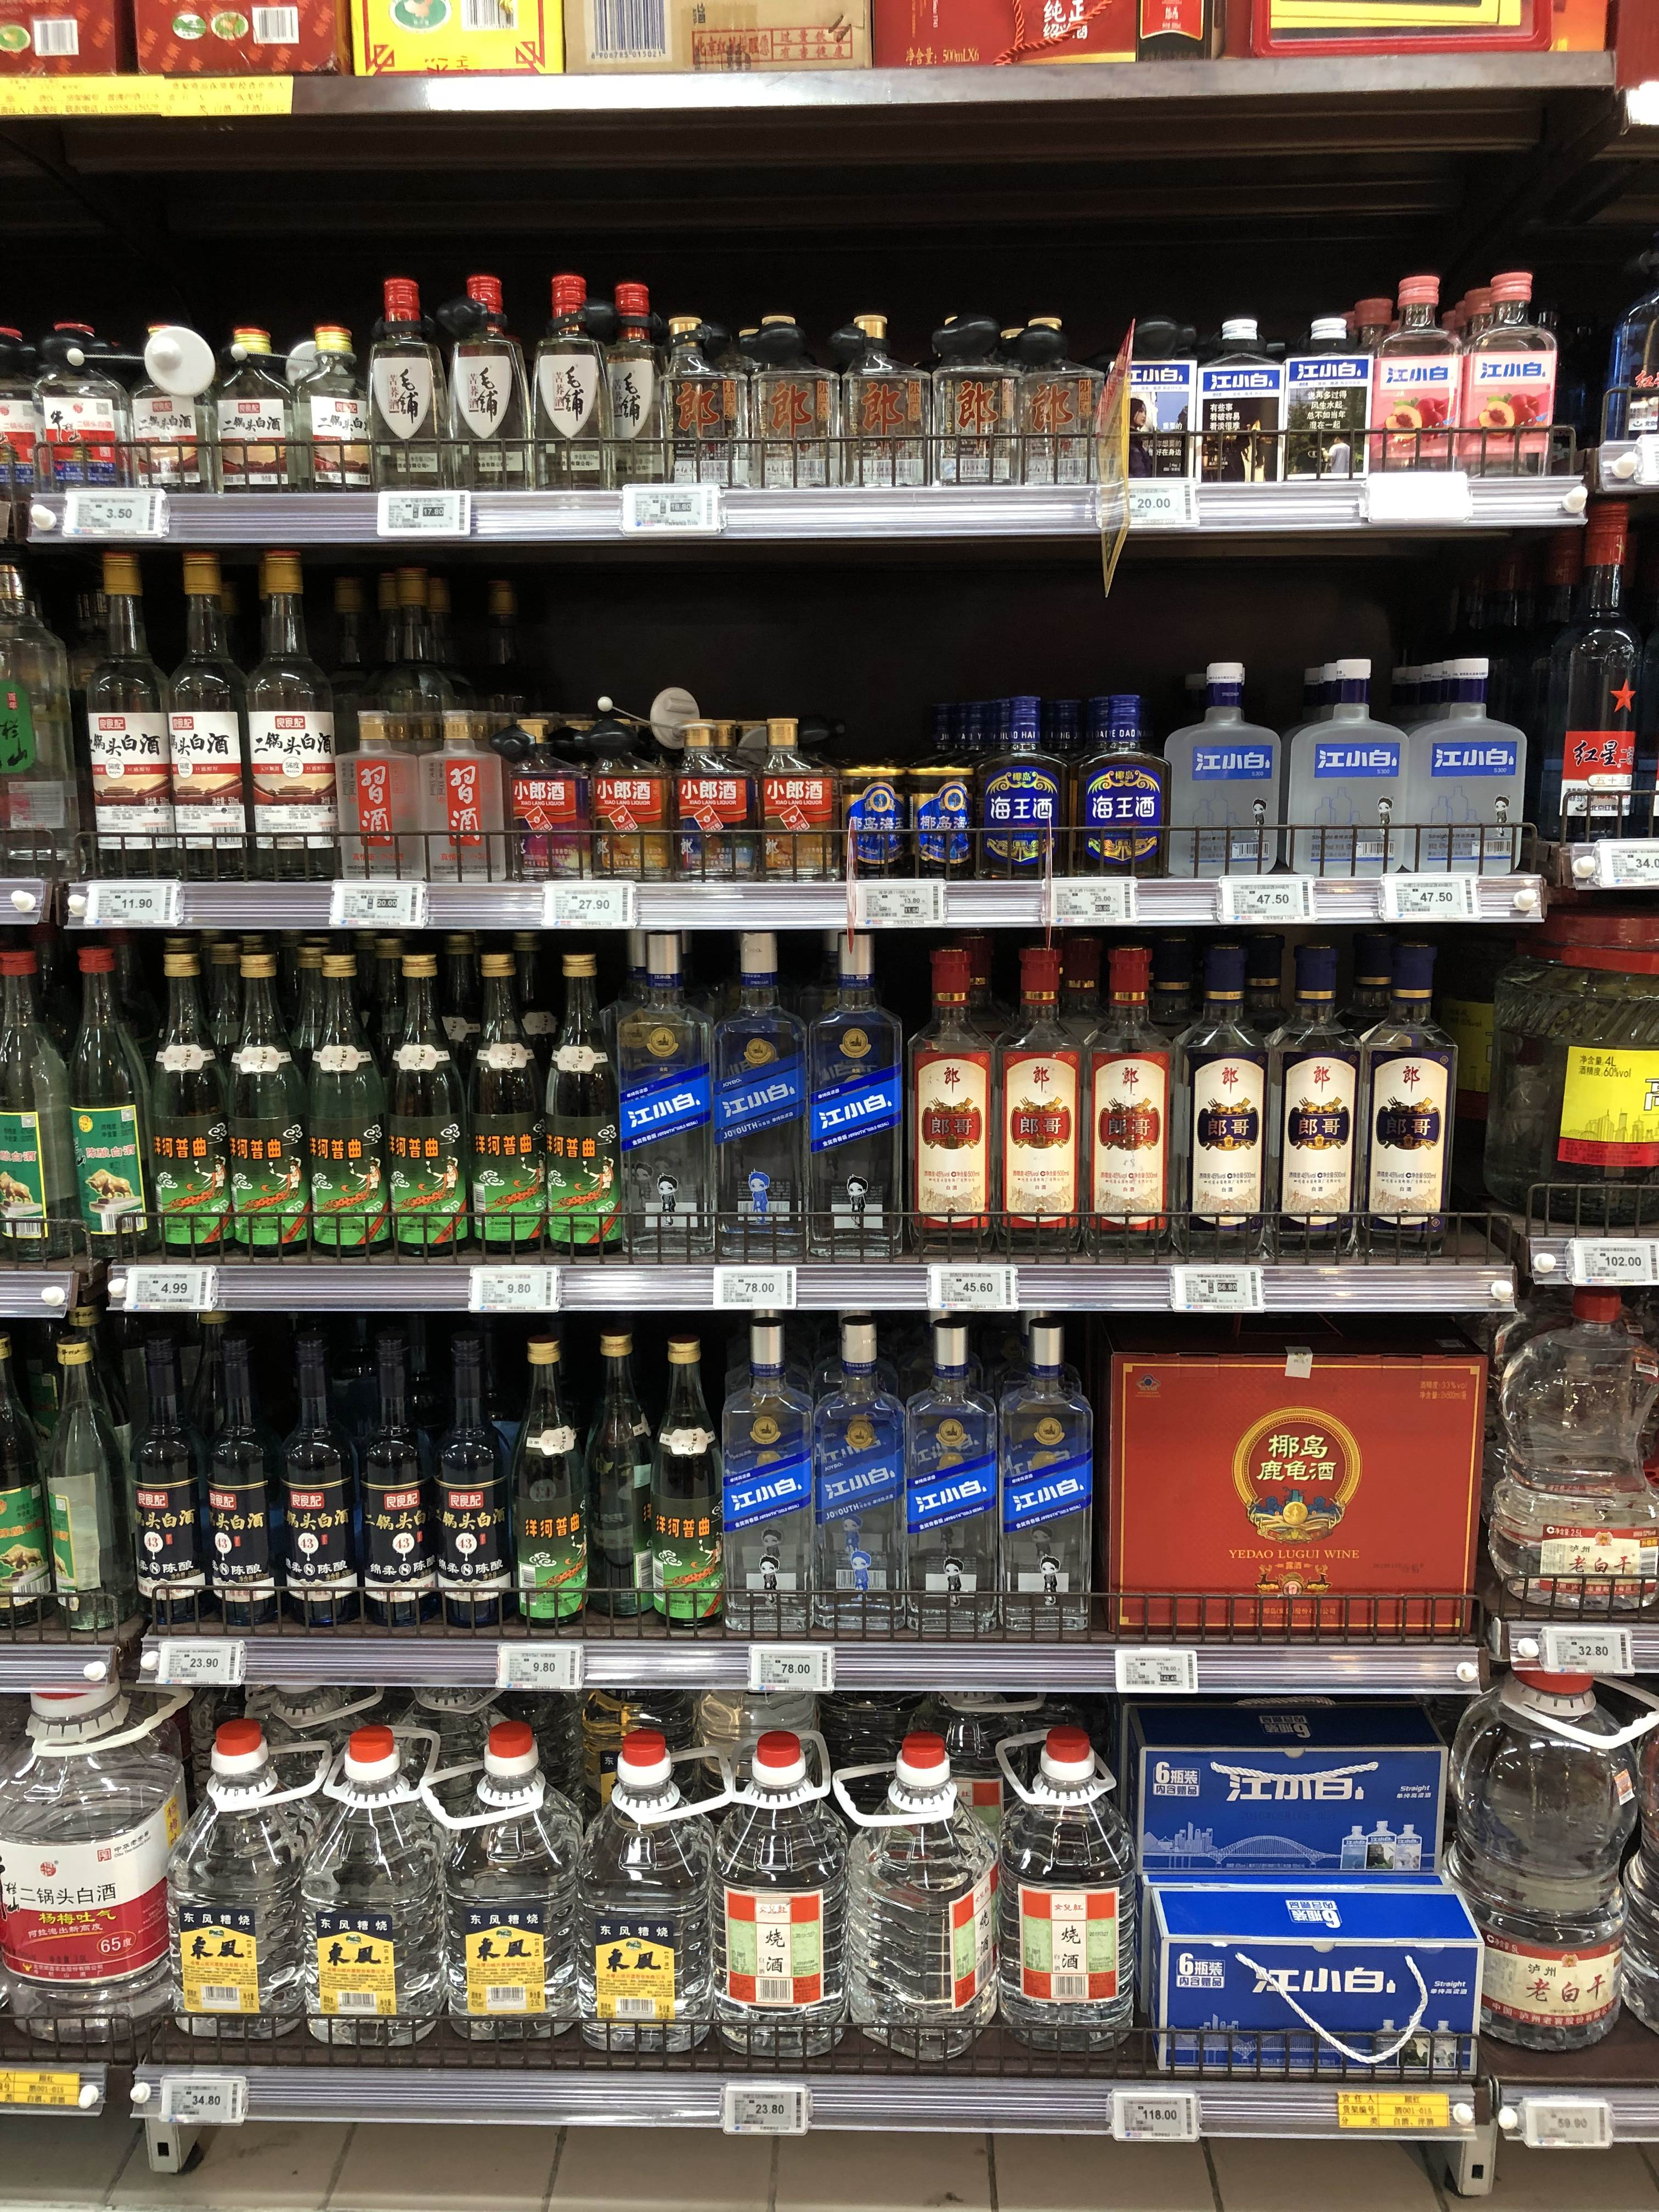bottle: (1439, 1642, 1622, 2066), (3, 1676, 176, 2078), (850, 1737, 992, 2069), (570, 1737, 709, 2067), (439, 1730, 579, 2060), (993, 1731, 1129, 2069), (173, 1726, 307, 2054), (714, 1737, 845, 2071), (300, 1733, 432, 2062), (1541, 505, 1643, 857), (612, 930, 716, 1256), (714, 928, 814, 1251), (807, 934, 903, 1264), (84, 550, 179, 876), (242, 547, 335, 885), (61, 944, 157, 1266), (992, 1320, 1091, 1627), (728, 1312, 821, 1635), (901, 951, 997, 1258), (42, 1318, 136, 1630), (1358, 958, 1453, 1258), (901, 1322, 992, 1634), (164, 556, 249, 885), (141, 946, 228, 1266), (1084, 946, 1173, 1259), (197, 1318, 286, 1627), (500, 1343, 596, 1629), (1270, 949, 1358, 1263), (301, 956, 389, 1266), (272, 1329, 361, 1632), (1180, 948, 1265, 1261), (350, 1329, 437, 1634), (0, 559, 82, 878), (129, 1318, 213, 1627), (380, 958, 464, 1264), (997, 953, 1080, 1258), (0, 949, 80, 1266), (427, 1336, 512, 1630), (221, 954, 301, 1264), (538, 958, 620, 1261), (821, 1317, 896, 1634), (1171, 660, 1277, 883), (460, 961, 538, 1259), (647, 1348, 725, 1641), (586, 1336, 664, 1615), (1457, 268, 1558, 465), (995, 312, 1101, 486), (444, 272, 526, 495), (1364, 277, 1457, 474), (971, 693, 1065, 883), (528, 273, 605, 498), (730, 315, 826, 491), (366, 279, 444, 493), (422, 707, 516, 883), (836, 314, 929, 491), (1072, 695, 1161, 880), (572, 723, 662, 885), (35, 334, 125, 491), (598, 280, 664, 493), (934, 338, 1023, 488), (213, 327, 289, 496), (342, 723, 423, 878), (504, 723, 580, 881), (671, 721, 742, 887), (657, 310, 725, 482), (298, 320, 366, 493), (760, 721, 831, 881), (903, 756, 978, 885), (709, 721, 767, 881), (835, 759, 906, 885)
box: (1122, 1327, 1485, 1663), (1148, 1881, 1486, 2102), (350, 2, 573, 78), (1188, 317, 1276, 488), (134, 2, 326, 73), (1103, 320, 1188, 481), (2, 0, 122, 71)
bucket: (1502, 928, 1657, 1221), (1403, 653, 1525, 873), (1281, 658, 1398, 871), (1290, 310, 1377, 482)
others: (1126, 1693, 1459, 1937), (1486, 1273, 1650, 1608)
